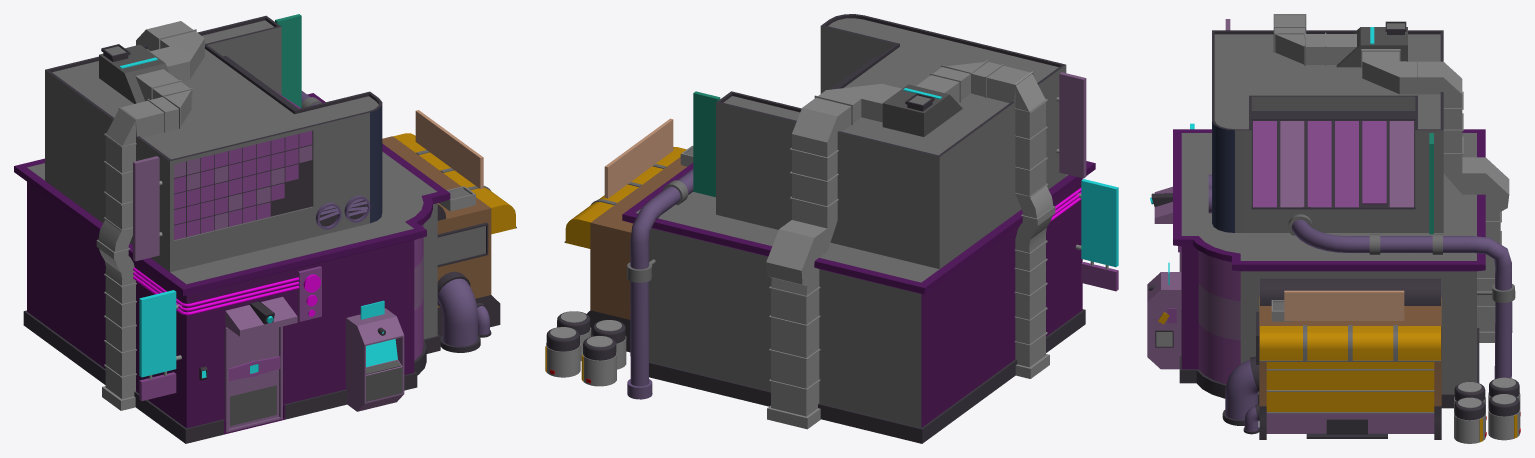
File: House1.fbx
3 views of the same model, side by side, from view 1: azimuth 30°, elevation 25°; view 2: azimuth 150°, elevation 25°; view 3: azimuth 270°, elevation 25° (orthographic). The views are drawn at different scales.
Visible parts, largest first — view 1: House_R_1; view 2: House_R_1; view 3: House_R_1.
Part boxes in pixels (bbox=[...]): House_R_1: bbox=[14, 14, 516, 443]; House_R_1: bbox=[545, 14, 1118, 443]; House_R_1: bbox=[1147, 14, 1520, 443].
Bounding box in the file's own units: 928 × 651 × 787.
